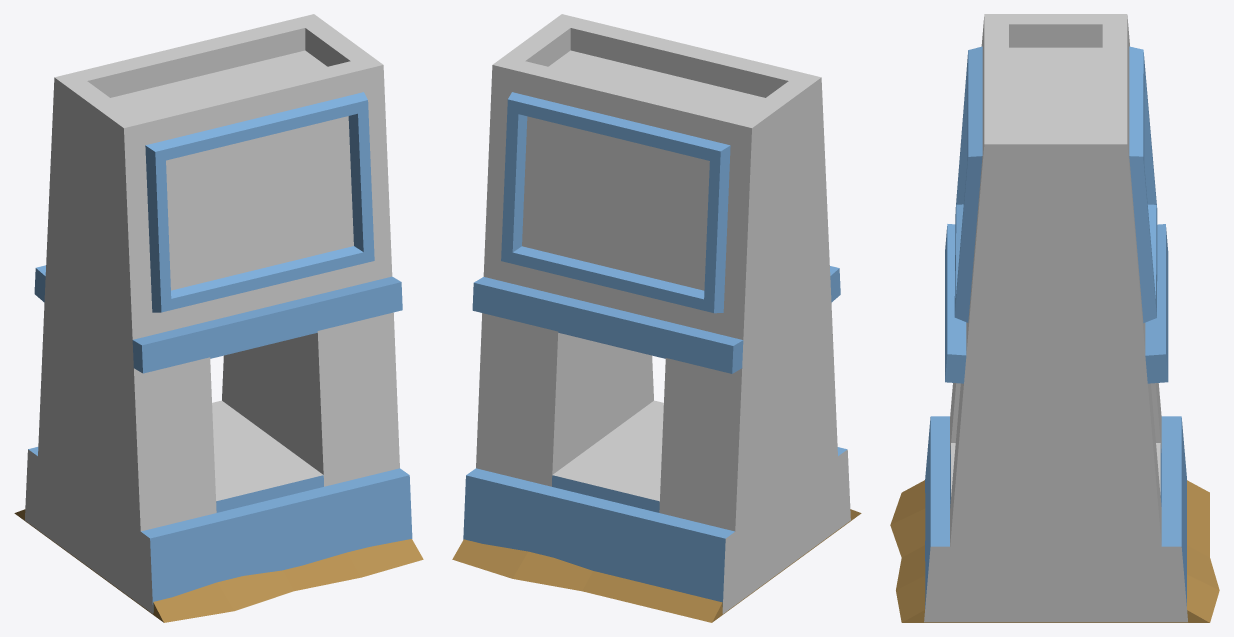
Rendered from StoneWallBox.fbx.
3 renders of one model, left to right at view 1: azimuth 30°, elevation 25°; view 2: azimuth 150°, elevation 25°; view 3: azimuth 270°, elevation 25°, orthographic. The views are drawn at different scales.
Parts seen in each view (by area): view 1: wallunit; view 2: wallunit; view 3: wallunit.
Part boxes in pixels (<box>): wallunit: <box>14,14,423,622</box>; wallunit: <box>452,14,861,622</box>; wallunit: <box>890,14,1219,622</box>.
Size of the model in its own units: 200 by 342 by 214.
